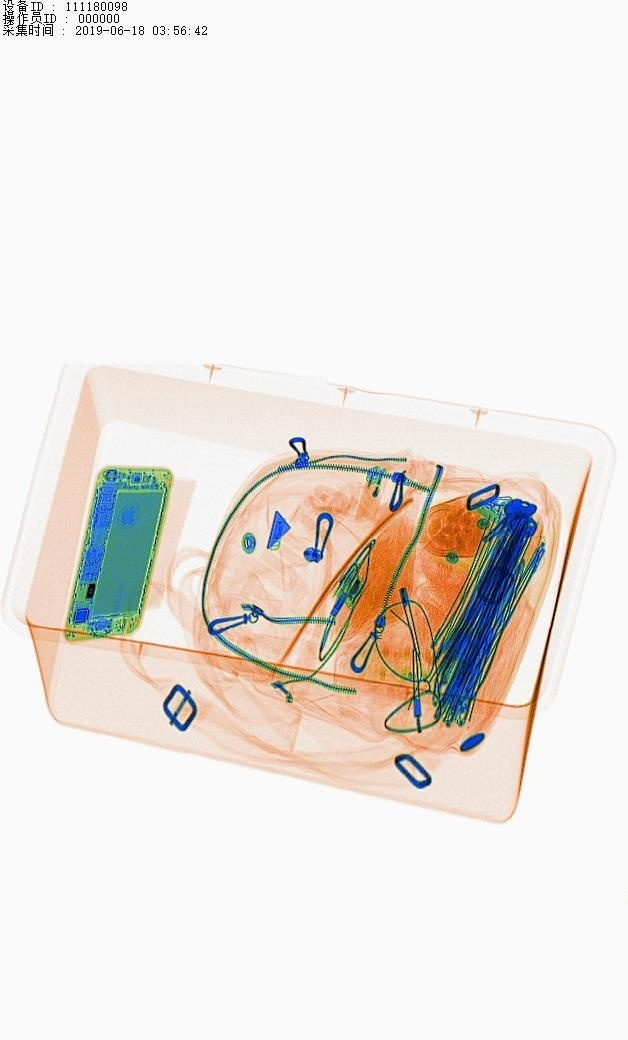NonmetallicFire: (344, 461, 395, 539)
